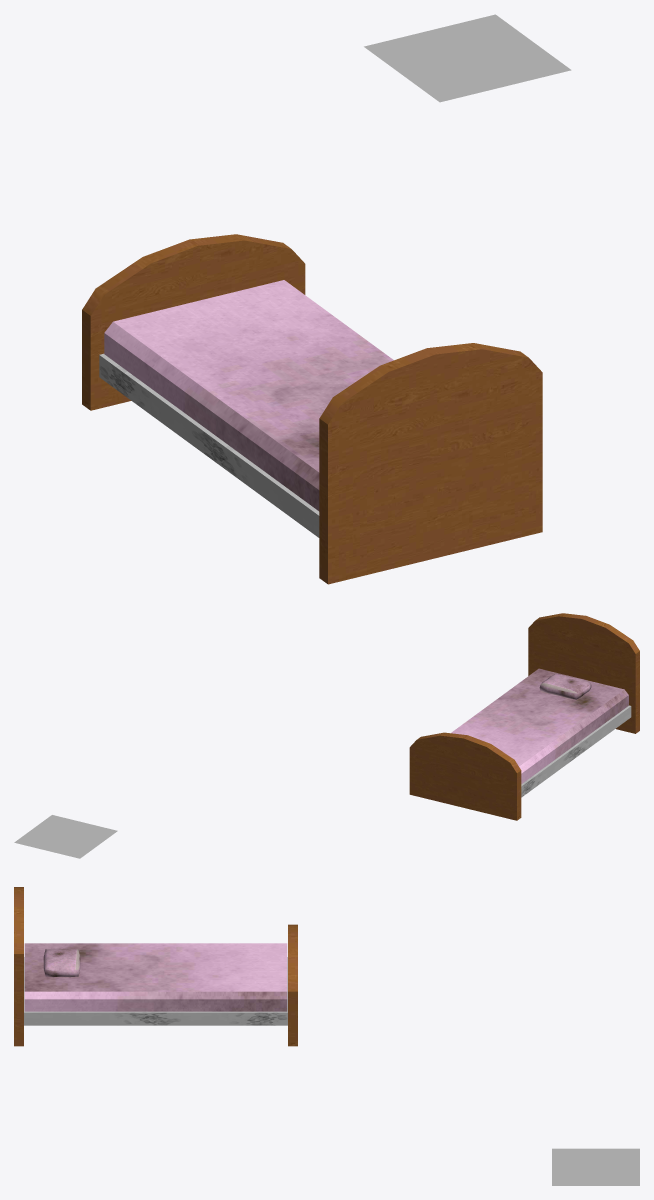
File: bed.fbx
3 renders of one model, top to bottom at view 1: azimuth 30°, elevation 25°; view 2: azimuth 150°, elevation 25°; view 3: azimuth 270°, elevation 25°, orthographic. The views are drawn at different scales.
Visible parts, largest first — view 1: pCube1, pCube2, pPlane2, pCube4; view 2: pCube1, pCube2, pPlane2, pCube4, pCube3; view 3: pCube2, pCube4, pPlane2, pCube1, pCube3.
Part boxes in pixels (left/top/right/bottom): pCube1: left=82, top=234, right=542, bottom=584; pCube2: left=104, top=280, right=393, bottom=511; pPlane2: left=364, top=14, right=571, bottom=102; pCube4: left=99, top=353, right=319, bottom=537; pCube1: left=409, top=613, right=639, bottom=820; pCube2: left=451, top=668, right=628, bottom=783; pPlane2: left=14, top=815, right=117, bottom=858; pCube4: left=521, top=705, right=631, bottom=797; pCube3: left=539, top=674, right=591, bottom=699; pCube2: left=24, top=943, right=287, bottom=1011; pCube4: left=24, top=957, right=287, bottom=1025; pPlane2: left=552, top=1148, right=639, bottom=1185; pCube1: left=14, top=887, right=297, bottom=1046; pCube3: left=43, top=948, right=80, bottom=977.
Bounding box in the file's own units: 5.38 × 1.48 × 7.11.
